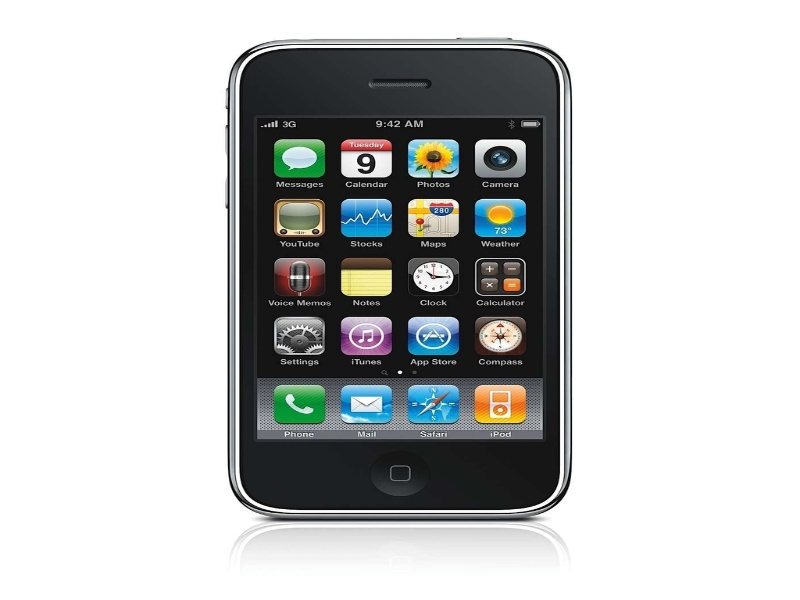cellphone: (211, 34, 577, 539)
